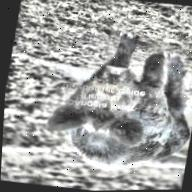boar: (45, 22, 192, 182)
